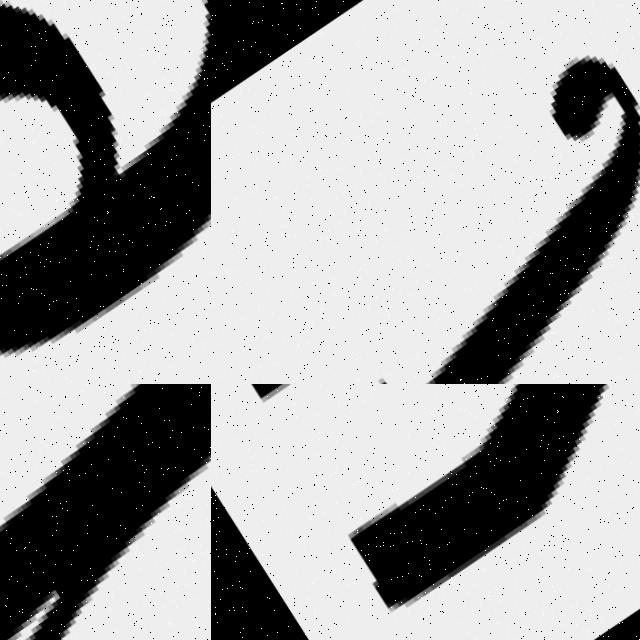9: (0, 0, 211, 384)
J: (211, 32, 640, 384)
R: (0, 384, 211, 640)
Y: (211, 384, 640, 629)
